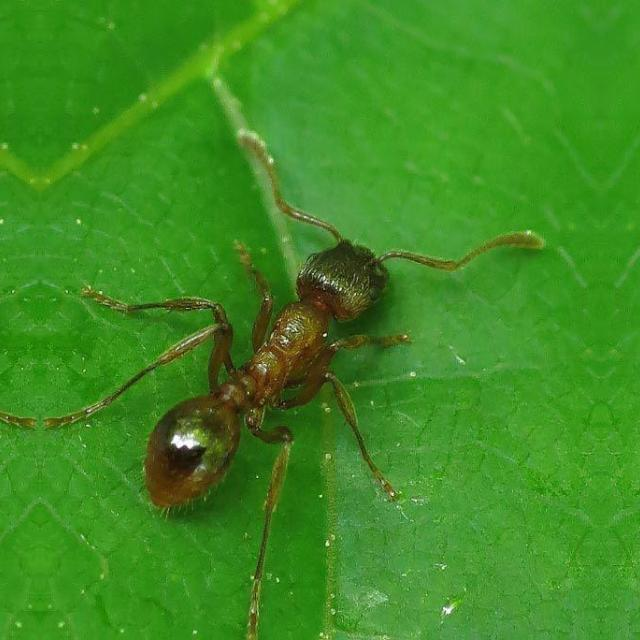Myrmica: (93, 108, 437, 558)
